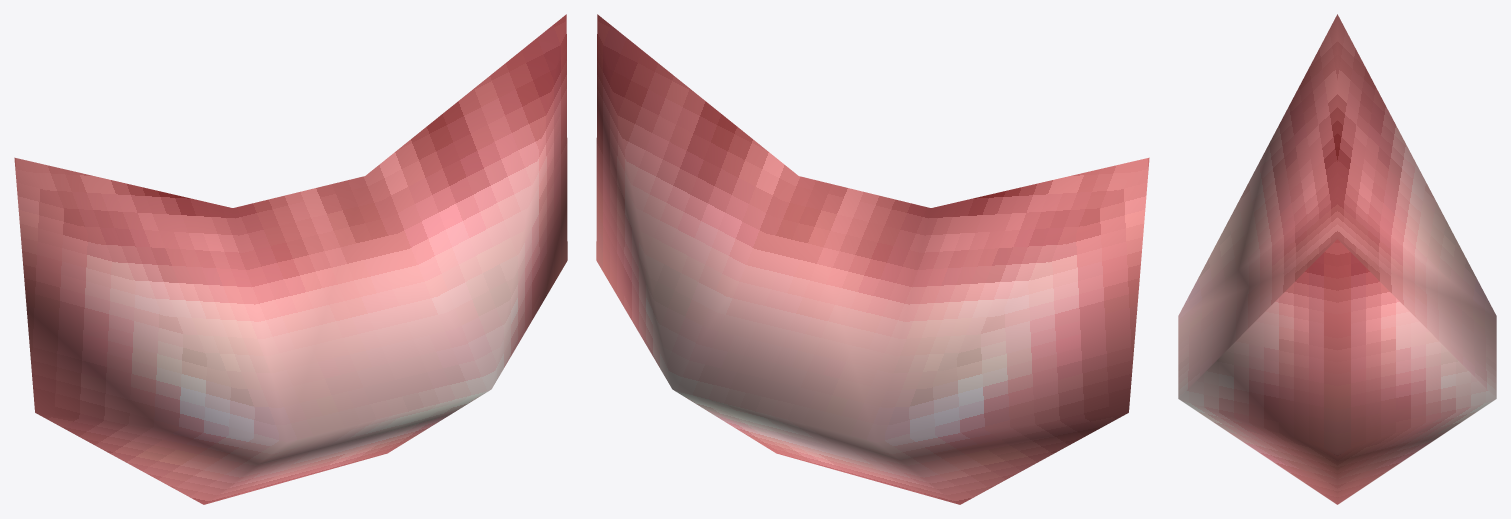
The model's file is chusukseung2.glb.
The picture shows the model from 3 angles, left to right: view 1: azimuth 30°, elevation 25°; view 2: azimuth 150°, elevation 25°; view 3: azimuth 270°, elevation 25°; orthographic projection. The views are drawn at different scales.
Visible parts, largest first — view 1: model_chusukseung2; view 2: model_chusukseung2; view 3: model_chusukseung2.
Boxes of the visible parts, x1=… form: model_chusukseung2: x1=14, y1=14, x2=567, y2=504; model_chusukseung2: x1=596, y1=14, x2=1149, y2=504; model_chusukseung2: x1=1178, y1=14, x2=1496, y2=504.
Bounding box in the file's own units: 0.4935 × 0.3431 × 0.2849.
1 material, 1 textured.
